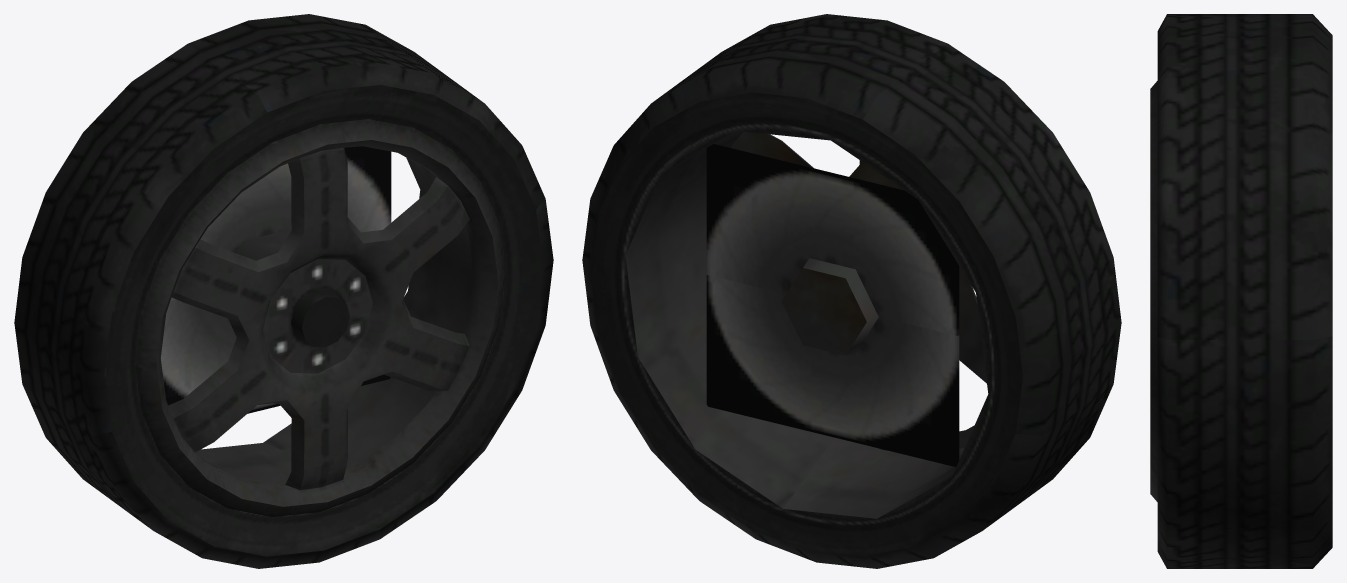
The model's file is V_A_ExoticMuscle_Wheel_8_SkeletalMesh3_SkeletalMesh_3.psk.glb.
3 renders of one model, left to right at view 1: azimuth 30°, elevation 25°; view 2: azimuth 150°, elevation 25°; view 3: azimuth 270°, elevation 25°, orthographic. The views are drawn at different scales.
Size of the model in its own units: 72.3 by 72.3 by 23.69.
1 material, 1 textured.
